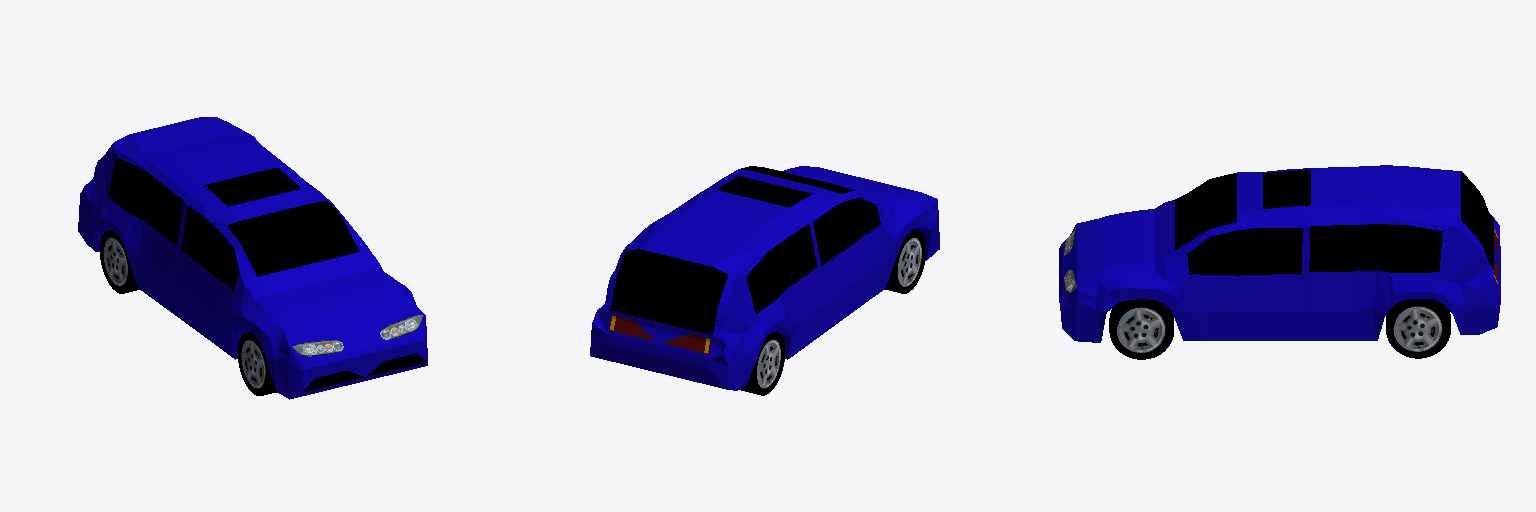
3 views of the same model, side by side, from view 1: azimuth 30°, elevation 25°; view 2: azimuth 150°, elevation 25°; view 3: azimuth 270°, elevation 25° (orthographic).
Parts seen in each view (by area): view 1: Cube, Cube.002_Cube.001, Cylinder.005_Cylinder.001, Cylinder.004_Cylinder.001; view 2: Cube, Cube.002_Cube.001, Cylinder.005_Cylinder.001, Cylinder.004_Cylinder.001; view 3: Cube.002_Cube.001, Cube, Cylinder.003_Cylinder.001, Cylinder_Cylinder.001.
Boxes of the visible parts, box(x1,y1,x2,y2) form: Cube: box(78, 126, 366, 399); Cube.002_Cube.001: box(166, 117, 427, 382); Cylinder.005_Cylinder.001: box(237, 332, 276, 395); Cylinder.004_Cylinder.001: box(100, 230, 139, 293); Cube: box(657, 177, 939, 390); Cube.002_Cube.001: box(590, 166, 868, 372); Cylinder.005_Cylinder.001: box(885, 230, 925, 293); Cylinder.004_Cylinder.001: box(739, 332, 784, 395); Cube.002_Cube.001: box(1059, 186, 1500, 342); Cube: box(1059, 165, 1500, 272); Cylinder.003_Cylinder.001: box(1109, 299, 1173, 359); Cylinder_Cylinder.001: box(1386, 299, 1450, 358).
Size of the model in its own units: 3.23 by 2.81 by 8.04.
Materials: 6 (5 with a texture image).